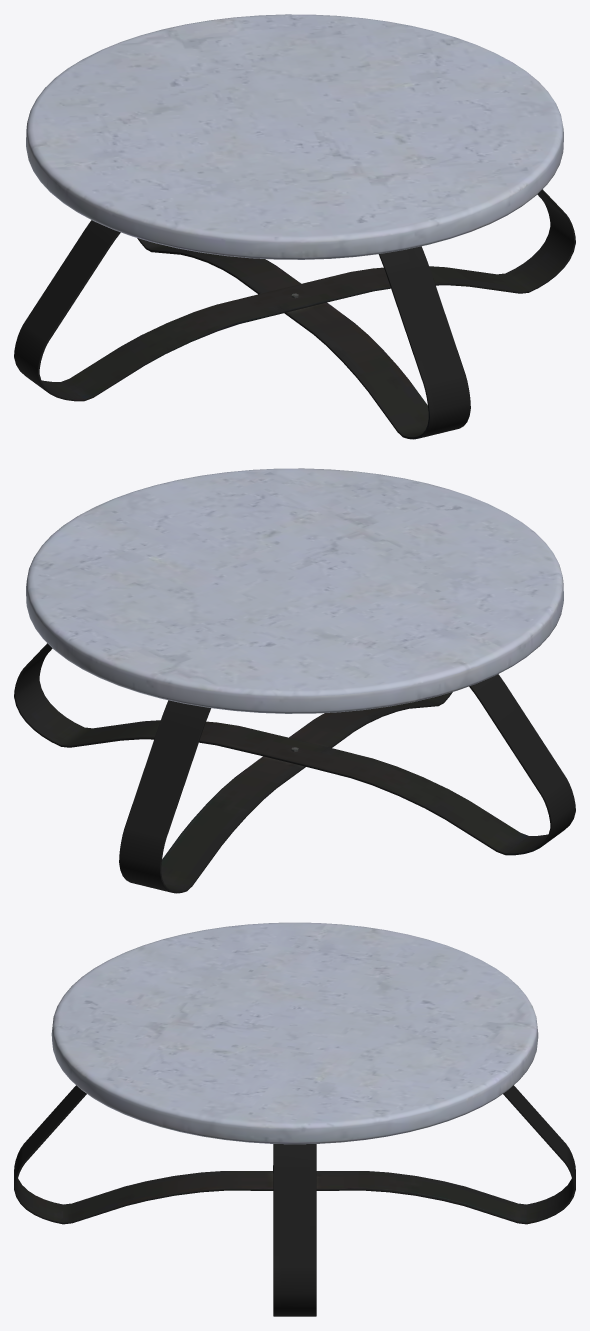
The model's file is coffee_table_round_01.glb.
The picture shows the model from 3 angles, top to bottom: view 1: azimuth 30°, elevation 25°; view 2: azimuth 150°, elevation 25°; view 3: azimuth 270°, elevation 25°; orthographic projection. The views are drawn at different scales.
Parts seen in each view (by area): view 1: coffee_table_round_01; view 2: coffee_table_round_01; view 3: coffee_table_round_01.
Part boxes in pixels (bbox=[...]): coffee_table_round_01: bbox=[14, 14, 575, 439]; coffee_table_round_01: bbox=[14, 468, 575, 893]; coffee_table_round_01: bbox=[14, 922, 575, 1316].
Size of the model in its own units: 1.3 by 0.4911 by 1.3.
Materials: 1 (1 with a texture image).
